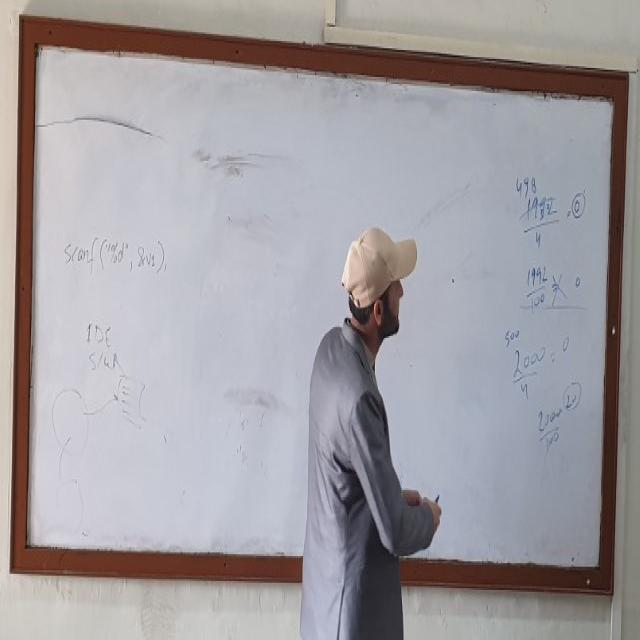Instructor: (302, 216, 424, 640)
White-board: (21, 28, 622, 584)
